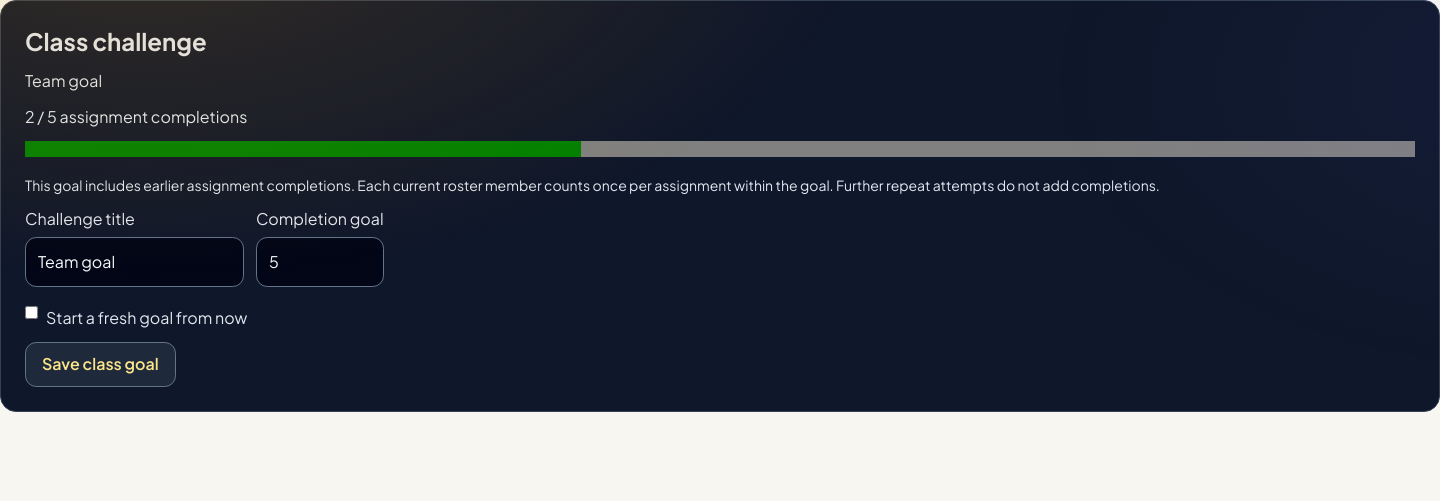
Test: failed saves preserve the restart choice and allow retry
The image size is (1440, 501).
Click the checkbox labelled "Start a fresh goal from now" at (32, 312), box 25,306 -> 38,319
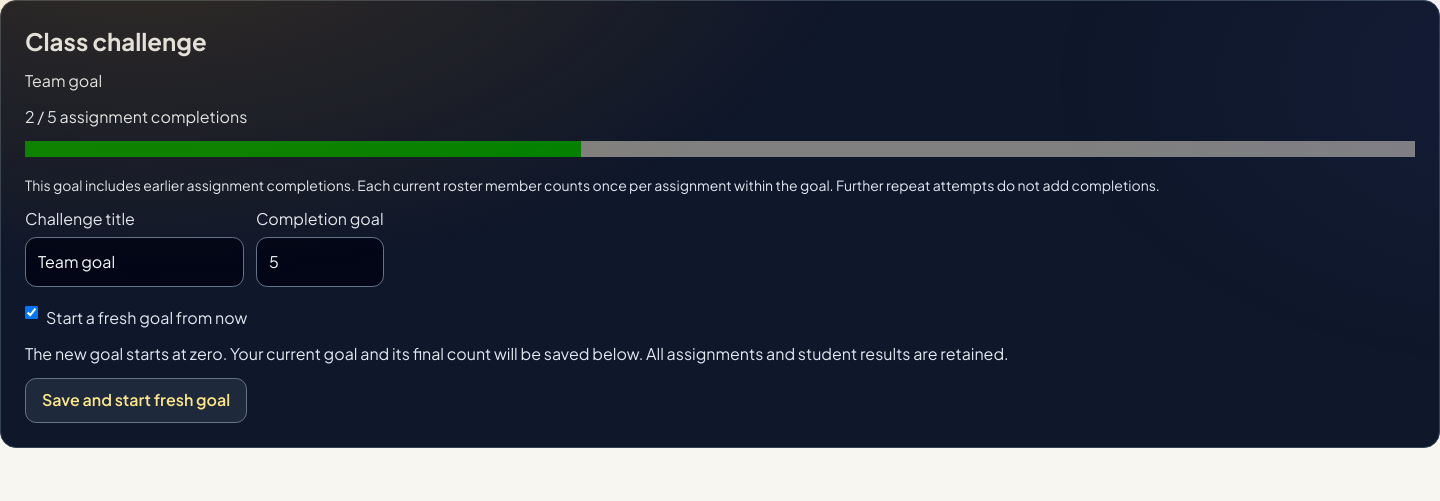
Submit the form, box 25,208 -> 1009,423
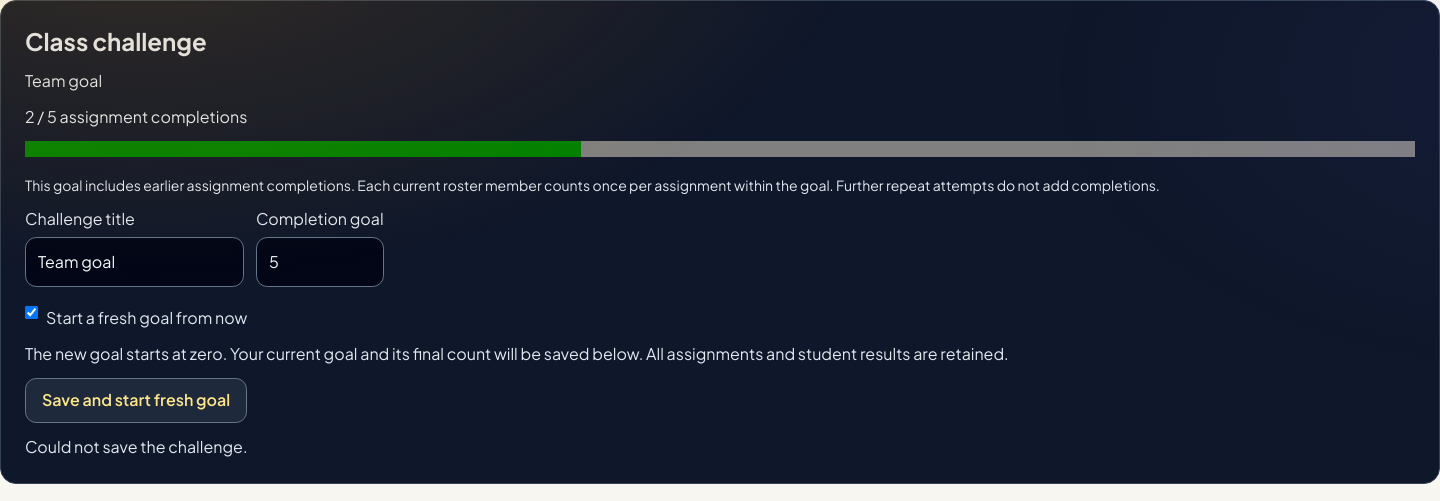
Expected: the checkbox labelled "Start a fresh goal from now" is checked, 25,306 -> 38,319
Expected: the message "Could not save the challenge." is shown, 25,436 -> 248,457
